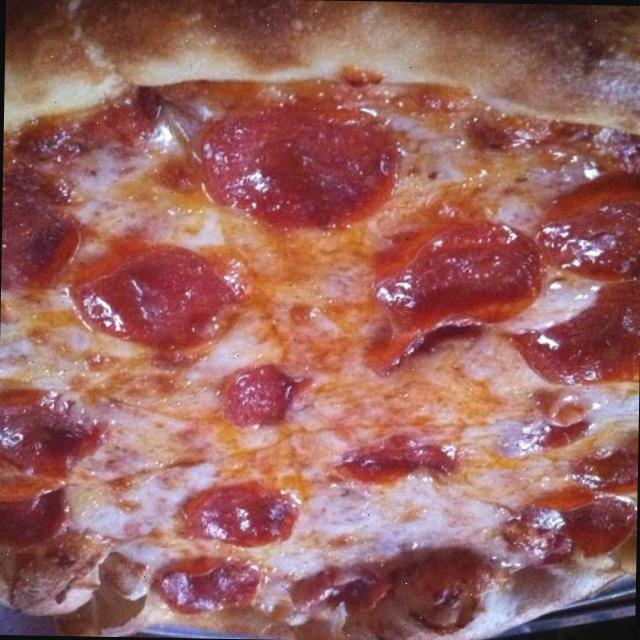pepperoni: (190, 110, 398, 232), (362, 222, 566, 346), (53, 238, 229, 358), (0, 369, 106, 554), (508, 191, 640, 299), (158, 467, 317, 554), (496, 300, 640, 392), (198, 352, 330, 443), (0, 168, 86, 298), (146, 551, 295, 626), (528, 476, 638, 568), (279, 550, 392, 622), (331, 436, 468, 492), (349, 328, 472, 390), (510, 390, 587, 454), (562, 447, 638, 508)
pizza: (0, 0, 640, 640)
